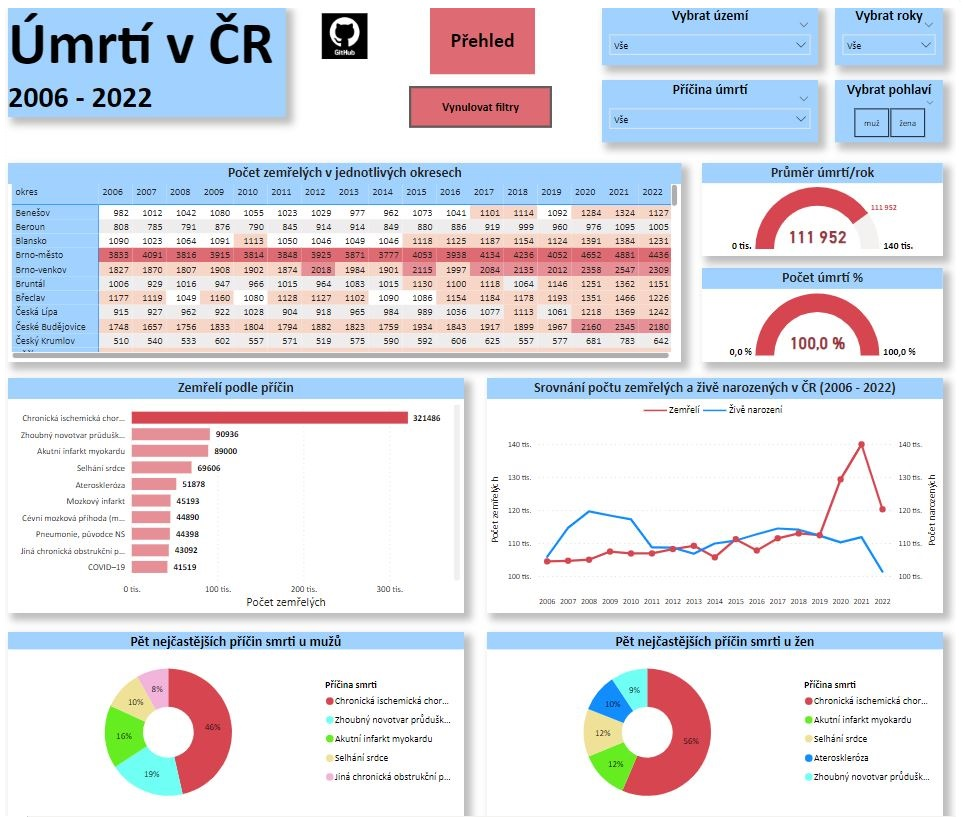

Layout of this report page (visuals, bound fields, positions):
{"tool":"powerbi","page":{"name":"Detail","canvas":[1280,1100],"ordinal":1},"visuals":[{"type":"pivotTable","title":"Počet zemřelých v jednotlivých okresech","fields":{"Columns":["zemreli.rok.Variace.Hierarchie dat.Rok"],"Values":["Sum(zemreli.pocet_umrti)"],"Rows":["zemreli.kraj Hierarchie.okres"]},"box":[7.9,208.9,898.1,266],"z":0},{"type":"clusteredBarChart","title":"Zemřelí podle příčin","fields":{"Category":["zemreli.nazev_nemoci"],"Y":["Sum(zemreli.pocet_umrti)"]},"box":[7.9,496,607.5,313.4],"z":1000},{"type":"lineChart","title":"Srovnání počtu zemřelých a živě narozených v ČR (2006 - 2022)","fields":{"Category":["KalendarovaTabulka.Date.Variace.Hierarchie dat.Rok"],"Y":["Sum(zemreli.pocet_umrti)"],"Y2":["Sum(narozeni.Živě narození)"]},"box":[647,496,607.5,313.4],"z":2000},{"type":"gauge","title":"Počet úmrtí %","fields":{"Y":["Sum(zemreli.umrti_procent)"]},"box":[933.2,349.4,321.3,125.5],"z":3000},{"type":"gauge","title":"Průměr úmrtí/rok","fields":{"Y":["zemreli.Roční průměr úmrtí"]},"box":[933.2,208.9,321.3,123.8],"z":4000},{"type":"slicer","title":"Příčina úmrtí","fields":{"Values":["zemreli.kategorie_nemoci Hierarchie.kategorie_nemoci","zemreli.kategorie_nemoci Hierarchie.nazev_nemoci"]},"box":[799.8,99.2,288,83.4],"z":5000},{"type":"donutChart","title":"Pět nejčastějších příčin smrti u mužů","fields":{"Category":["zemreli.nazev_nemoci"],"Y":["Sum(zemreli.pocet_umrti)"]},"box":[7.9,834,607.5,249.3],"z":6000},{"type":"donutChart","title":"Pět nejčastějších příčin smrti u žen","fields":{"Category":["zemreli.nazev_nemoci"],"Y":["Sum(zemreli.pocet_umrti)"]},"box":[647,834,607.5,249.3],"z":7000},{"type":"slicer","title":"Vybrat území","fields":{"Values":["zemreli.kraj Hierarchie.kraj","zemreli.kraj Hierarchie.okres"]},"box":[799.8,0,288,79],"z":8000},{"type":"slicer","title":"Vybrat roky","fields":{"Values":["zemreli.rok"]},"box":[1110.6,0,144,79],"z":9000},{"type":"slicer","title":"Vybrat pohlaví","fields":{"Values":["zemreli.pohlavi"]},"box":[1110.6,99.2,144,83.4],"z":10000},{"type":"actionButton","box":[570,0,140,91],"z":11000},{"type":"actionButton","title":"Úmrtí v ČR","box":[7.9,0,369.6,148.4],"z":12000},{"type":"actionButton","box":[543.1,107.2,190.7,55.7],"z":13000},{"type":"image","box":[421.4,2.6,71.1,73.7],"z":14000}]}

Visuals, with their boxes in screenshot pixels (x1, y1, x2, y2), scaled from the page's 1280x1100 canvas onto the 964x817 screenshot:
"Počet zemřelých v jednotlivých okresech" pivotTable: bbox(6, 155, 682, 353)
"Zemřelí podle příčin" clusteredBarChart: bbox(6, 368, 463, 601)
"Srovnání počtu zemřelých a živě narozených v ČR (2006 - 2022)" lineChart: bbox(487, 368, 945, 601)
"Počet úmrtí %" gauge: bbox(703, 260, 945, 353)
"Průměr úmrtí/rok" gauge: bbox(703, 155, 945, 247)
"Příčina úmrtí" slicer: bbox(602, 74, 819, 136)
"Pět nejčastějších příčin smrti u mužů" donutChart: bbox(6, 619, 463, 805)
"Pět nejčastějších příčin smrti u žen" donutChart: bbox(487, 619, 945, 805)
"Vybrat území" slicer: bbox(602, 0, 819, 59)
"Vybrat roky" slicer: bbox(836, 0, 945, 59)
"Vybrat pohlaví" slicer: bbox(836, 74, 945, 136)
actionButton: bbox(429, 0, 535, 68)
"Úmrtí v ČR" actionButton: bbox(6, 0, 284, 110)
actionButton: bbox(409, 80, 553, 121)
image: bbox(317, 2, 371, 57)
